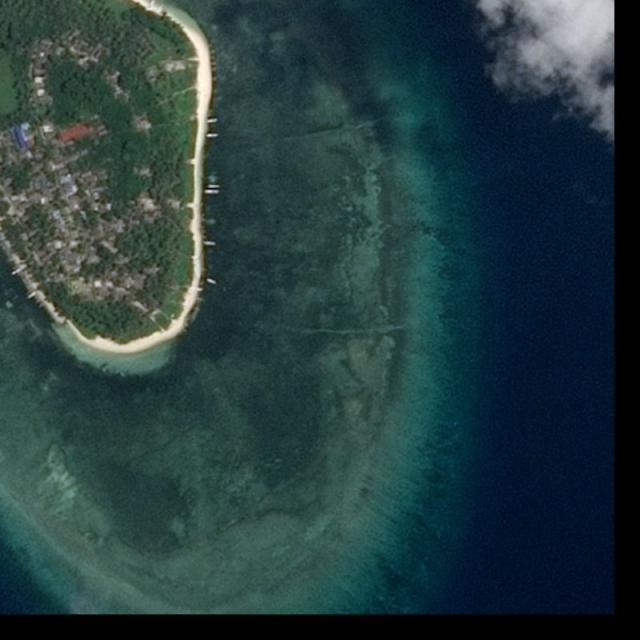ship: (206, 277, 217, 286), (203, 241, 217, 247), (205, 190, 220, 195), (207, 118, 217, 124), (208, 185, 221, 189), (207, 134, 219, 138)
